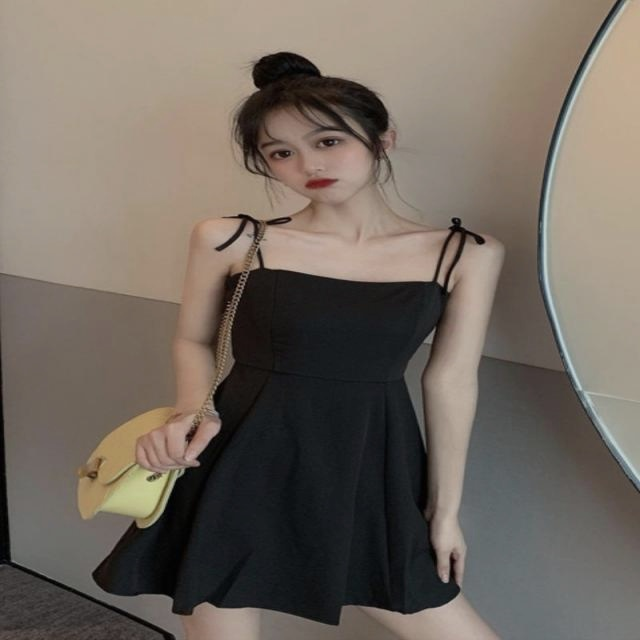Miniskirt: (88, 363, 507, 640)
Sleeveless: (186, 216, 250, 269), (446, 227, 509, 279)
low_neckline: (232, 211, 468, 368)
